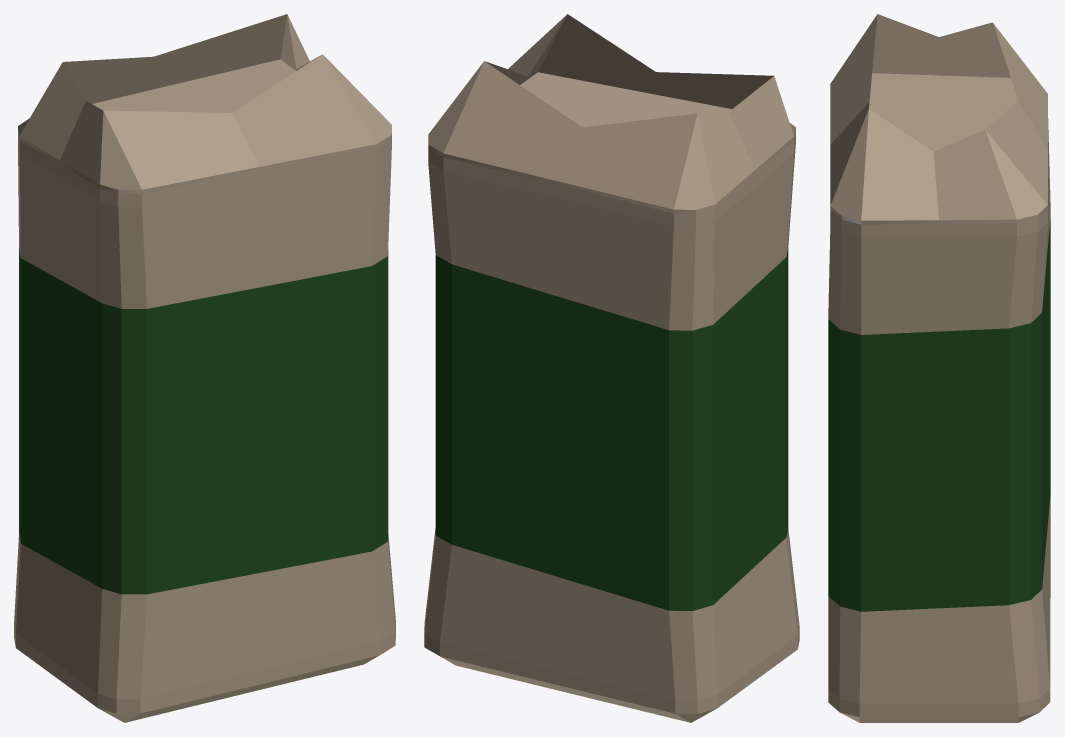
The model's file is flour_open.fbx.
3 views of the same model, side by side, from view 1: azimuth 30°, elevation 25°; view 2: azimuth 150°, elevation 25°; view 3: azimuth 270°, elevation 25° (orthographic). The views are drawn at different scales.
Parts seen in each view (by area): view 1: Box019; view 2: Box019; view 3: Box019.
Part boxes in pixels (x1,y1,x2,y2): Box019: (14,14,395,722); Box019: (424,14,799,722); Box019: (828,14,1050,722).
Bounding box in the file's own units: 18.73 × 36.98 × 12.5.
